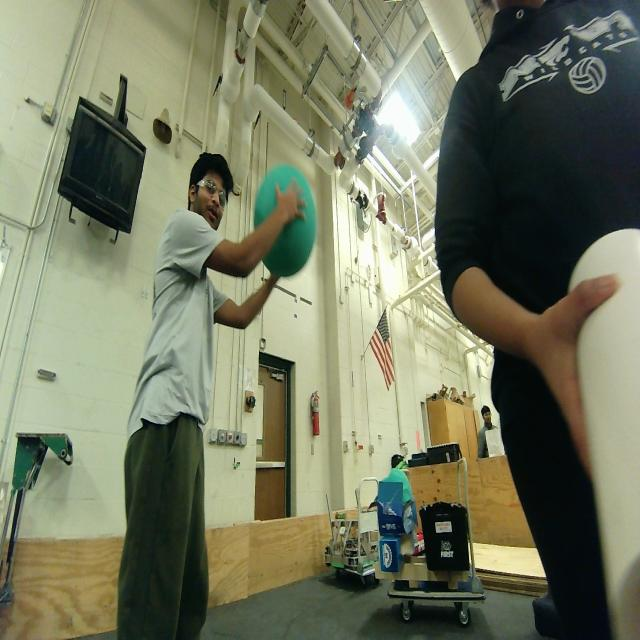algae: (251, 158, 320, 284)
coral: (555, 224, 640, 640)
